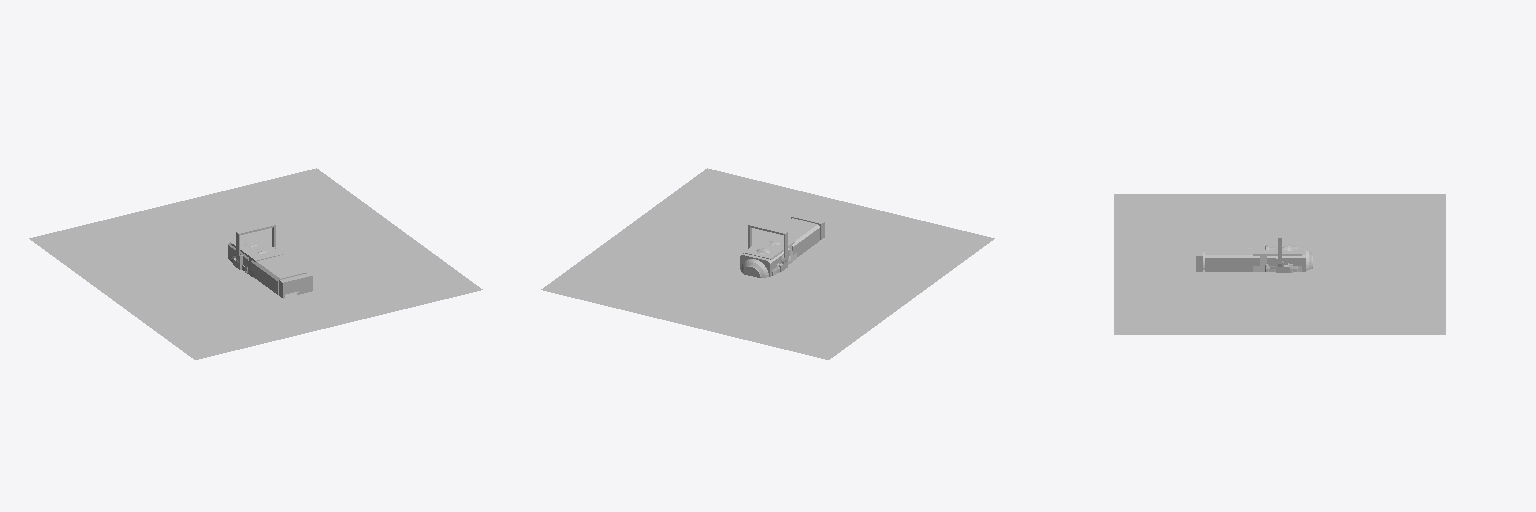
The model's file is pinSpot.obj.
3 renders of one model, left to right at view 1: azimuth 30°, elevation 25°; view 2: azimuth 150°, elevation 25°; view 3: azimuth 270°, elevation 25°, orthographic.
Parts seen in each view (by area): view 1: Base_Plane, Cube_Cube.003, Iso_Fresu_Cube; view 2: Base_Plane, Cube_Cube.003, Iso_Fresu_Cube, Uusi_par64_Circle.001; view 3: Base_Plane, Cube_Cube.003, Iso_Fresu_Cube.
Boxes of the visible parts, <box> form: Base_Plane: <box>29,168,482,359</box>; Cube_Cube.003: <box>228,236,312,298</box>; Iso_Fresu_Cube: <box>229,237,282,277</box>; Base_Plane: <box>541,168,994,359</box>; Cube_Cube.003: <box>740,214,824,276</box>; Iso_Fresu_Cube: <box>743,235,796,275</box>; Uusi_par64_Circle.001: <box>741,241,791,277</box>; Base_Plane: <box>1114,194,1445,334</box>; Cube_Cube.003: <box>1196,241,1305,271</box>; Iso_Fresu_Cube: <box>1253,241,1301,271</box>.
Bounding box in the file's own units: 32 × 5.81 × 32.